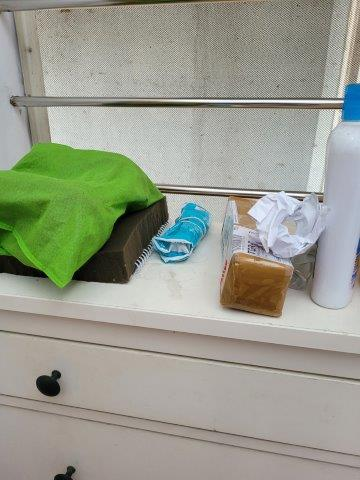kertas: (245, 192, 331, 260)
